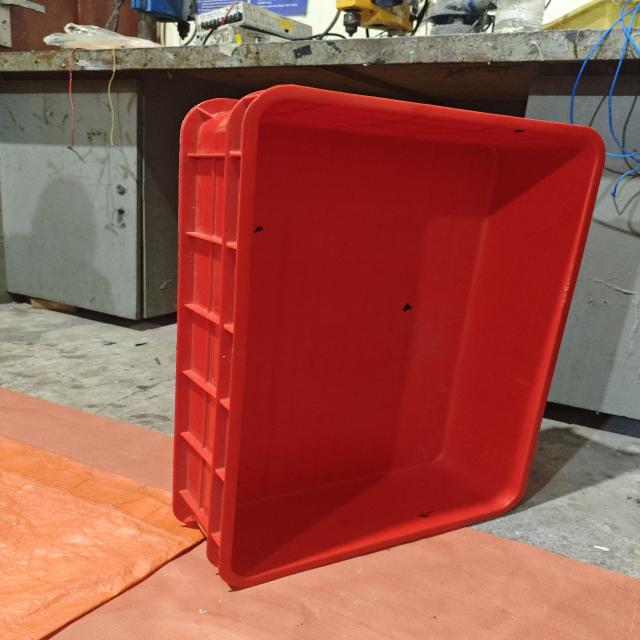red plastic box: (171, 84, 607, 589)
